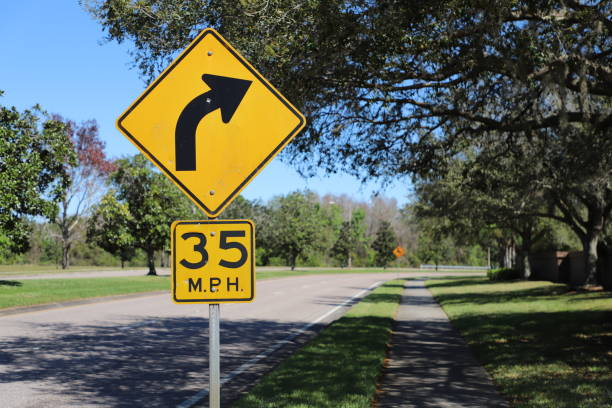right turn: (116, 27, 305, 220)
